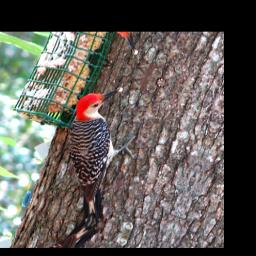Woodpecker: (37, 76, 161, 227)
